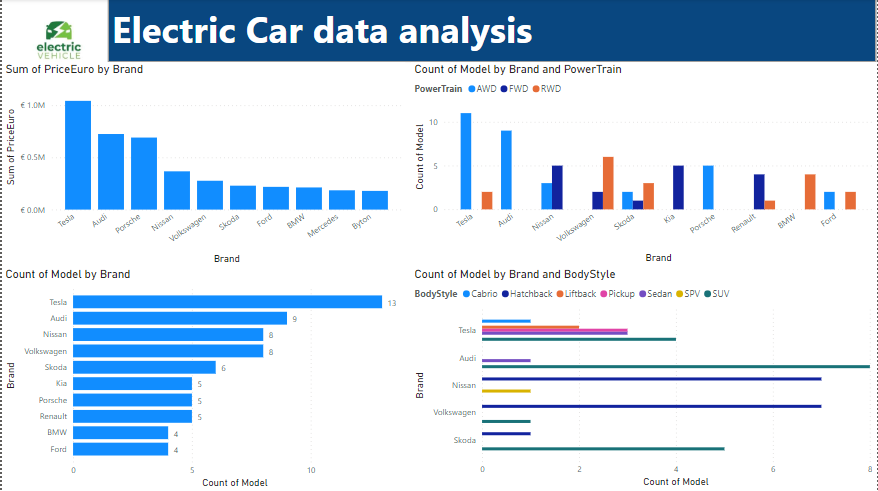

This screenshot's page, from the dashboard's own definition file:
{"tool":"powerbi","page":{"name":"Brand","canvas":[1280,720],"ordinal":0},"visuals":[{"type":"image","box":[10.2,0,144.9,120],"z":0},{"type":"textbox","box":[155.1,0,1123.9,92.2],"z":1},{"type":"clusteredColumnChart","fields":{"Category":["ElectricCarData_Clean.Brand"],"Y":["Sum(ElectricCarData_Clean.PriceEuro)"]},"box":[0,92.2,589.8,300],"z":2},{"type":"clusteredBarChart","fields":{"Category":["ElectricCarData_Clean.Brand"],"Y":["CountNonNull(ElectricCarData_Clean.Model)"]},"box":[0,392.2,589.8,327.8],"z":3},{"type":"lineClusteredColumnComboChart","fields":{"Category":["ElectricCarData_Clean.Brand"],"Series":["ElectricCarData_Clean.PowerTrain"],"Y":["CountNonNull(ElectricCarData_Clean.Model)"]},"box":[598.5,92.2,680.5,300],"z":4},{"type":"clusteredBarChart","fields":{"Category":["ElectricCarData_Clean.Brand"],"Y":["CountNonNull(ElectricCarData_Clean.Model)"],"Series":["ElectricCarData_Clean.BodyStyle"]},"box":[598.5,392.2,680.5,327.8],"z":5}]}

Visuals, with their boxes in screenshot pixels (x1, y1, x2, y2), scaled from the page's 1280x720 canvas onto the 878x491 screenshot:
image: bbox(7, 0, 106, 82)
textbox: bbox(106, 0, 877, 63)
clusteredColumnChart - ElectricCarData_Clean.Brand x Sum(ElectricCarData_Clean.PriceEuro): bbox(0, 63, 405, 267)
clusteredBarChart - ElectricCarData_Clean.Brand x CountNonNull(ElectricCarData_Clean.Model): bbox(0, 267, 405, 490)
lineClusteredColumnComboChart - ElectricCarData_Clean.Brand x ElectricCarData_Clean.PowerTrain: bbox(411, 63, 877, 267)
clusteredBarChart - ElectricCarData_Clean.Brand x CountNonNull(ElectricCarData_Clean.Model): bbox(411, 267, 877, 490)
